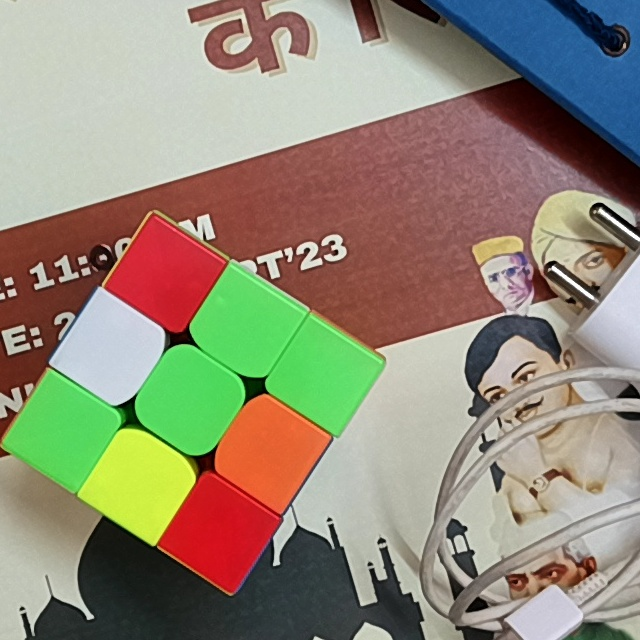tile: (157, 367, 220, 433), (215, 291, 277, 355), (30, 400, 96, 460), (106, 453, 170, 514), (238, 421, 300, 483), (136, 243, 197, 305), (188, 502, 249, 564), (294, 343, 354, 404), (81, 320, 141, 380)
